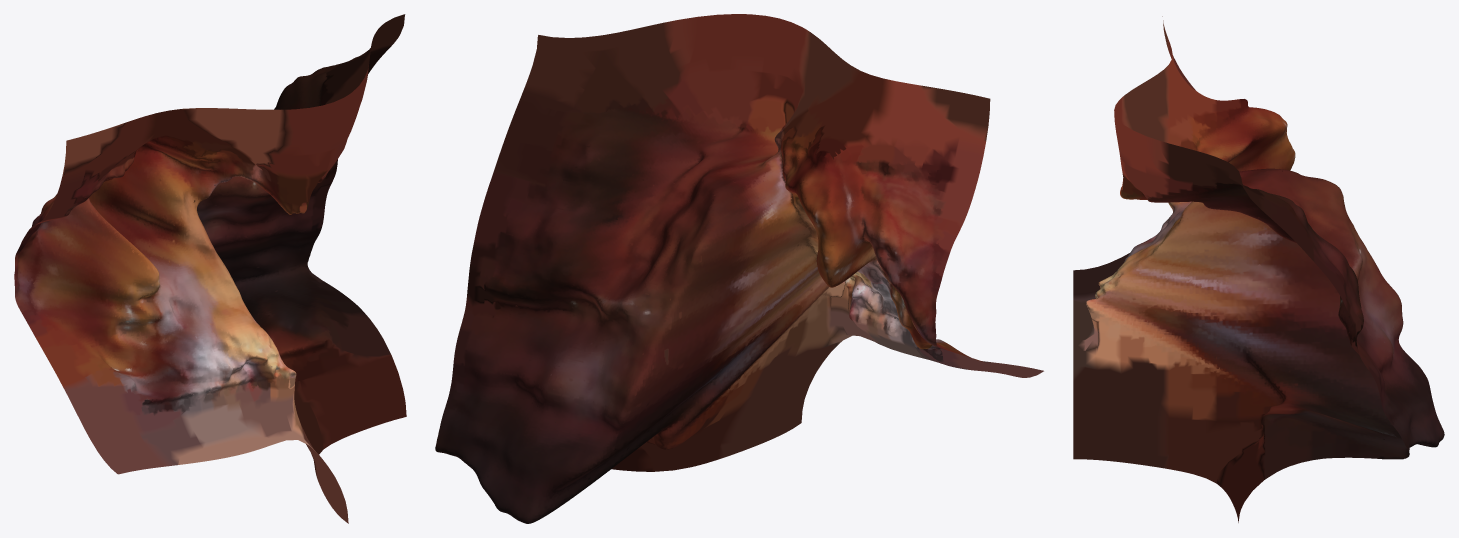
File: reserve_s1_mesh.obj
The picture shows the model from 3 angles, left to right: view 1: azimuth 30°, elevation 25°; view 2: azimuth 150°, elevation 25°; view 3: azimuth 270°, elevation 25°; orthographic projection. The views are drawn at different scales.
Bounding box in the file's own units: 1 × 1 × 0.9671.
